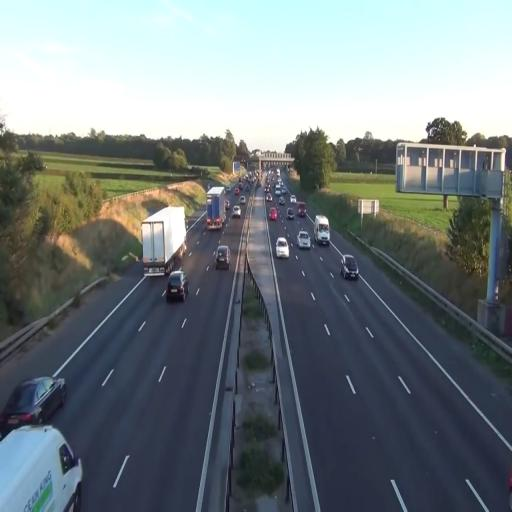vehicle: (0, 422, 84, 509), (0, 374, 67, 440), (141, 204, 188, 276), (141, 206, 187, 276), (205, 185, 227, 230), (165, 270, 187, 302), (340, 253, 359, 280), (314, 215, 331, 245), (215, 244, 230, 271), (275, 236, 290, 260), (298, 230, 311, 249), (268, 204, 278, 222), (232, 204, 242, 218)
